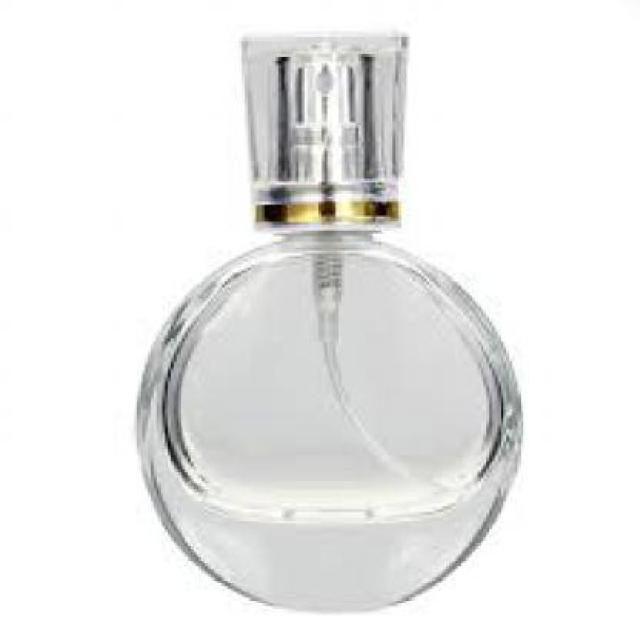kaca: (134, 228, 517, 606)
